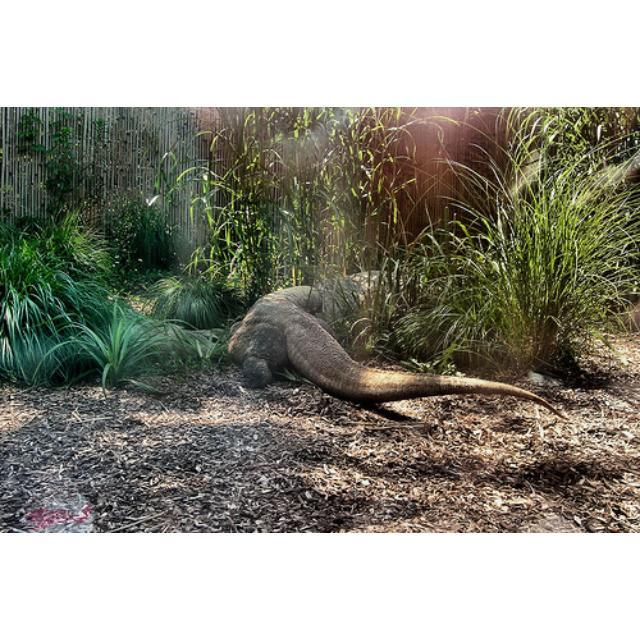KomodoDragon: (227, 275, 568, 419)
